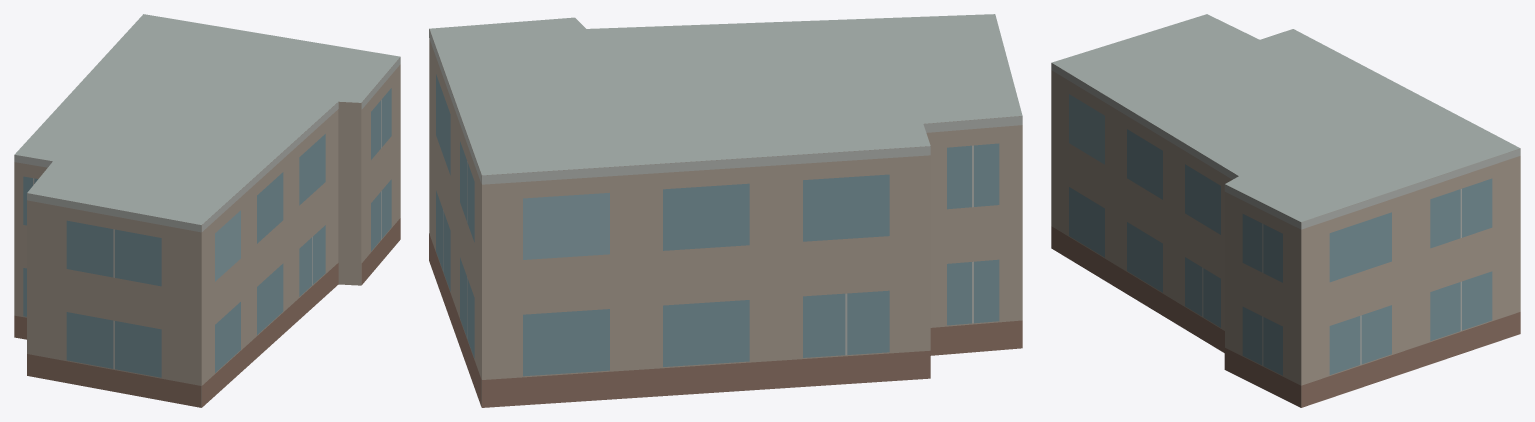
File: survey-upis-32612968.glb
The picture shows the model from 3 angles, left to right: view 1: azimuth 30°, elevation 25°; view 2: azimuth 150°, elevation 25°; view 3: azimuth 270°, elevation 25°; orthographic projection. The views are drawn at different scales.
Parts seen in each view (by area): view 1: survey-upis-32612968.tmp; view 2: survey-upis-32612968.tmp; view 3: survey-upis-32612968.tmp.
Boxes of the visible parts, x1=… form: survey-upis-32612968.tmp: x1=14, y1=14, x2=400, y2=407; survey-upis-32612968.tmp: x1=429, y1=14, x2=1022, y2=407; survey-upis-32612968.tmp: x1=1051, y1=14, x2=1520, y2=407.
Size of the model in its own units: 14.68 by 6.1 by 13.98.
